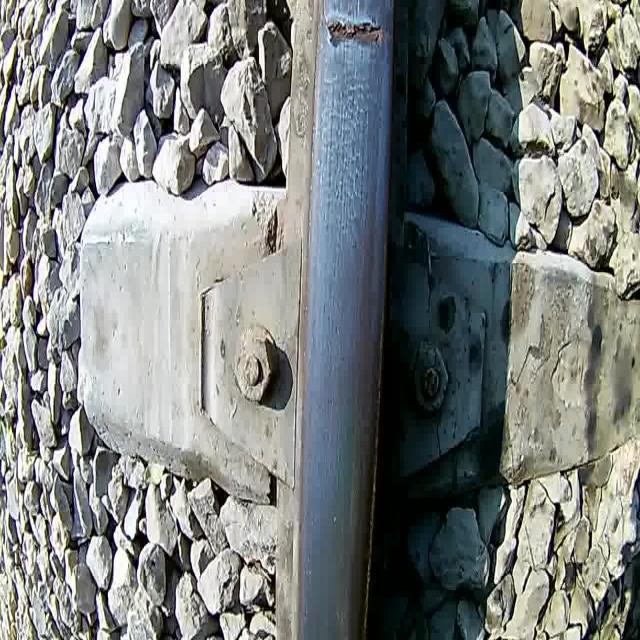Spallings: (320, 10, 391, 55)
